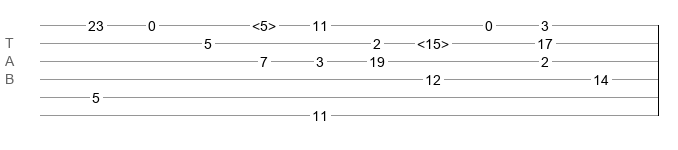0: (148, 18, 156, 28), (485, 18, 493, 28)
11: (312, 108, 328, 118), (312, 18, 328, 28)
12: (425, 72, 441, 82)
14: (593, 72, 609, 82)
17: (537, 36, 553, 46)
19: (369, 54, 385, 64)
2: (373, 36, 381, 46), (541, 54, 549, 64)
23: (88, 18, 104, 28)
3: (316, 54, 324, 64), (541, 18, 549, 28)
5: (92, 90, 100, 100), (204, 36, 212, 46)
7: (260, 54, 268, 64)
harmonic: (417, 36, 449, 46), (252, 18, 276, 28)
